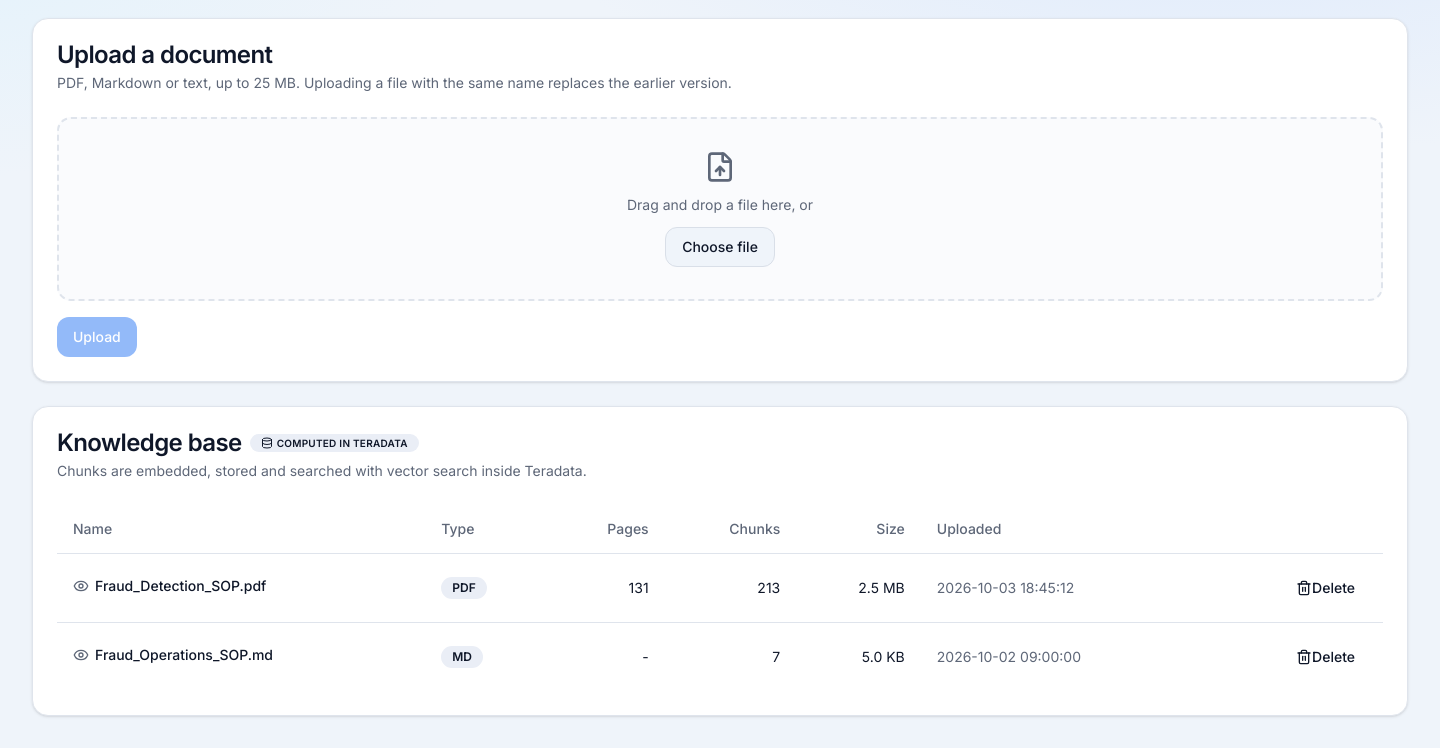
Test: Documents page: delete › confirming deletes by name and refetches
(page scrolled)
Expected: the button "Fraud_Operations_SOP.md" is shown, [73, 645, 273, 665]
Click the button with aria-label "Delete Fraud_Operations_SOP.md": (1326, 656) [1284, 638, 1367, 674]
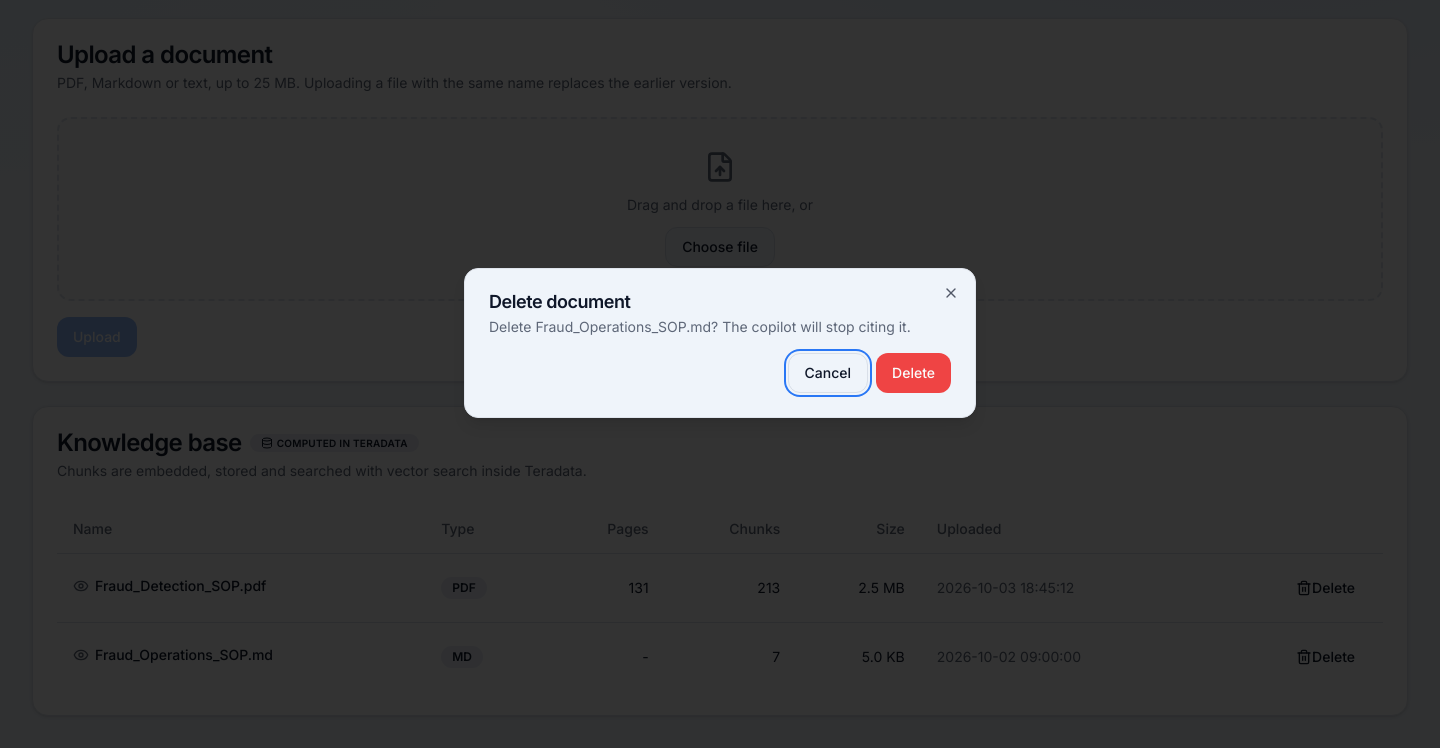
Click the button "Delete": (914, 373) [876, 353, 951, 393]
(page scrolled)
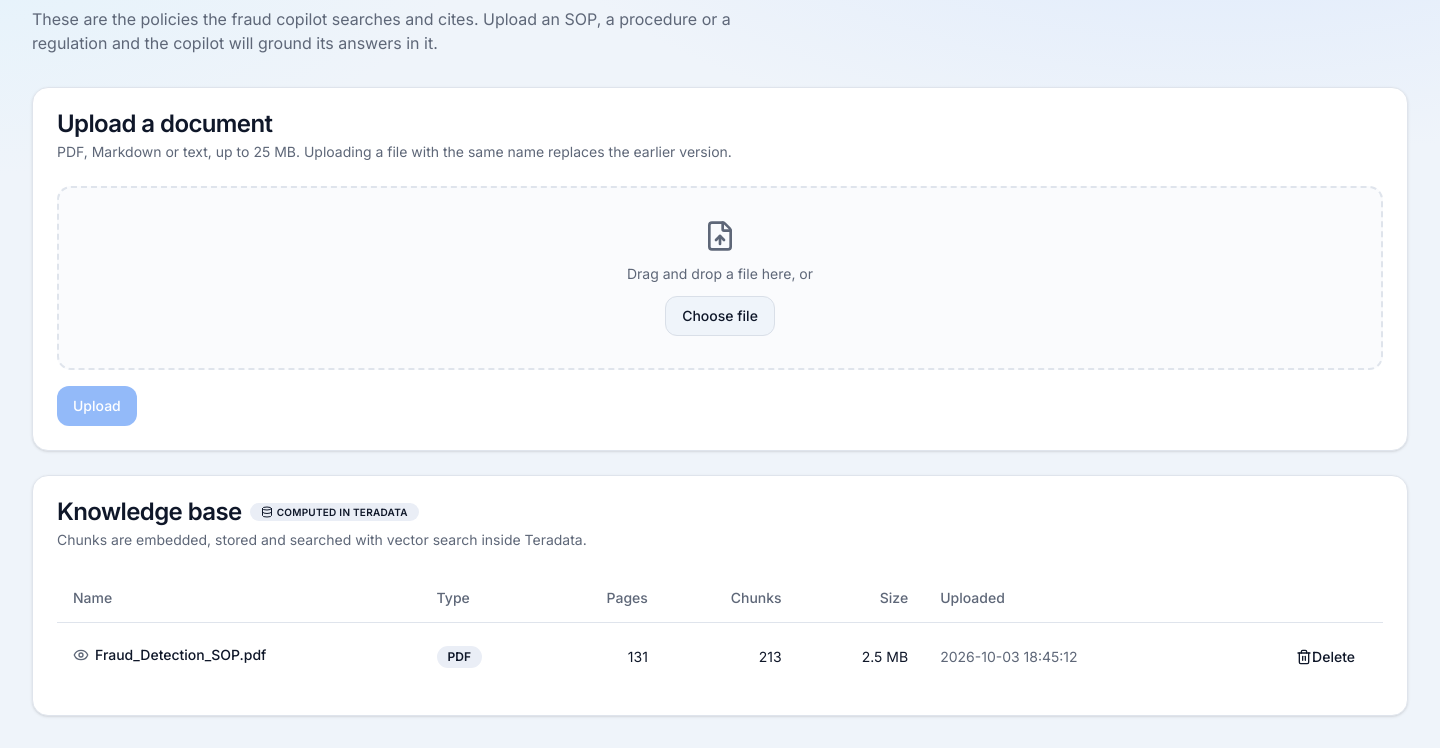
Expected: the button "Fraud_Detection_SOP.pdf" is shown, [73, 645, 266, 665]
Now the button "Fraud_Operations_SOP.md" is gone
